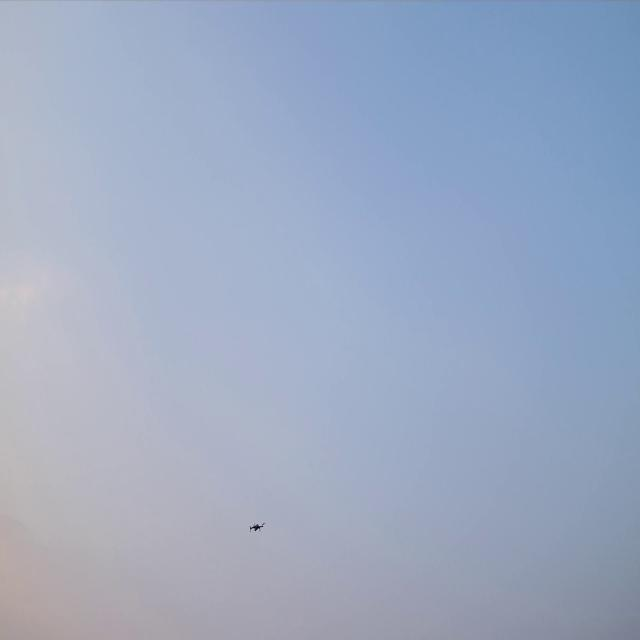UAV: (249, 522, 266, 534)
